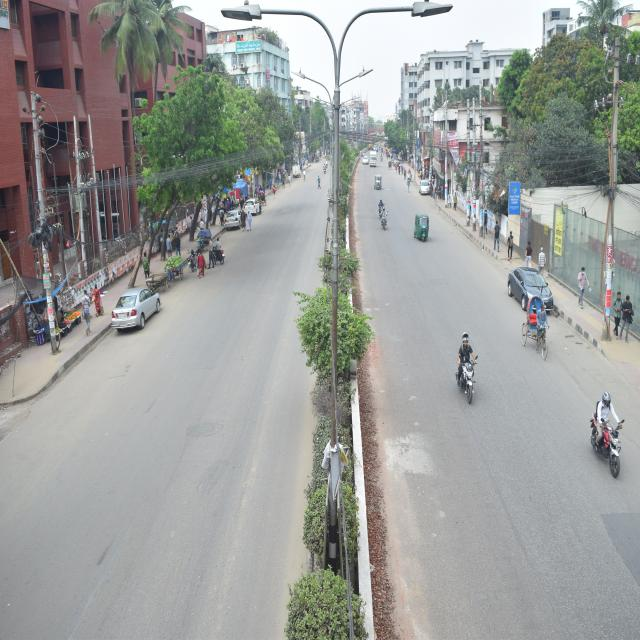bus: (366, 146, 383, 175)
car: (95, 278, 189, 356), (500, 237, 564, 335), (232, 172, 274, 234), (216, 194, 246, 249), (418, 166, 443, 217), (359, 152, 369, 168)
motorbike: (564, 370, 634, 499), (442, 316, 490, 421), (198, 230, 228, 278), (374, 191, 394, 235), (376, 200, 391, 232), (320, 153, 332, 185)
